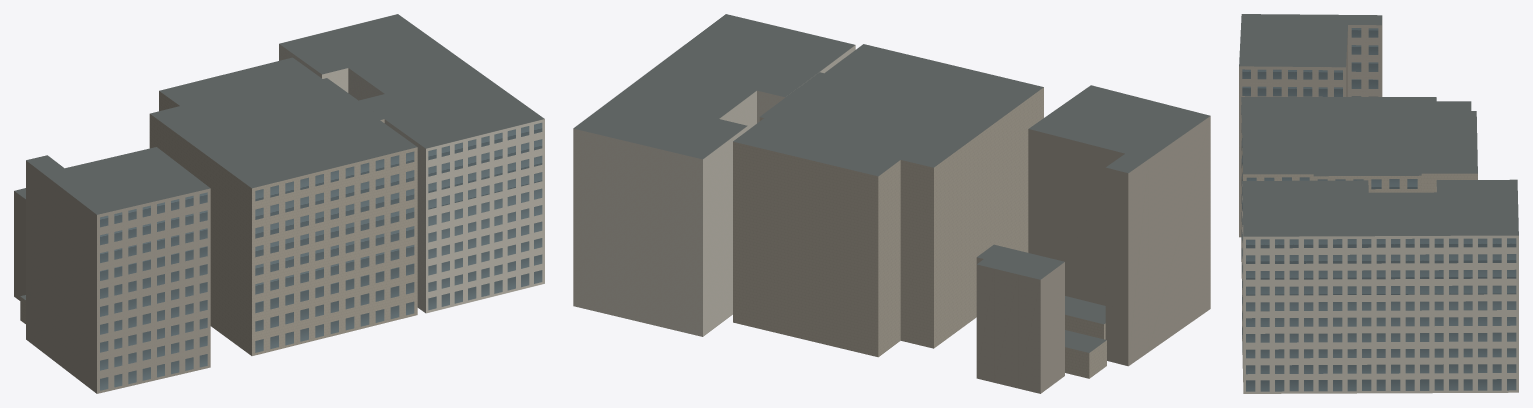
The picture shows the model from 3 angles, left to right: view 1: azimuth 30°, elevation 25°; view 2: azimuth 150°, elevation 25°; view 3: azimuth 270°, elevation 25°; orthographic projection. The views are drawn at different scales.
Parts seen in each view (by area): view 1: cell-e001-n000_base_roof, cell-e001-n000_base_stone, cell-e001-n000_base_tile-wall, cell-e001-n000_base_glass, cell-e001-n000_base_plaster; view 2: cell-e001-n000_base_stone, cell-e001-n000_base_roof, cell-e001-n000_base_tile-wall, cell-e001-n000_base_plaster; view 3: cell-e001-n000_base_roof, cell-e001-n000_base_plaster, cell-e001-n000_base_glass, cell-e001-n000_base_tile-wall, cell-e001-n000_base_stone.
Boxes of the visible parts, x1,y1,x2,y2 form: cell-e001-n000_base_roof: [14, 14, 544, 299]; cell-e001-n000_base_stone: [20, 91, 417, 355]; cell-e001-n000_base_tile-wall: [14, 160, 210, 393]; cell-e001-n000_base_glass: [100, 122, 542, 390]; cell-e001-n000_base_plaster: [279, 44, 544, 313]; cell-e001-n000_base_stone: [733, 87, 1106, 378]; cell-e001-n000_base_roof: [573, 14, 1210, 352]; cell-e001-n000_base_tile-wall: [976, 116, 1210, 393]; cell-e001-n000_base_plaster: [573, 45, 855, 336]; cell-e001-n000_base_roof: [1239, 14, 1518, 236]; cell-e001-n000_base_plaster: [1242, 184, 1518, 393]; cell-e001-n000_base_glass: [1241, 28, 1516, 391]; cell-e001-n000_base_tile-wall: [1239, 20, 1382, 237]; cell-e001-n000_base_stone: [1241, 102, 1477, 278].
Size of the model in its own units: 86.61 by 33.03 by 49.
Materials: 5 (4 with a texture image).
